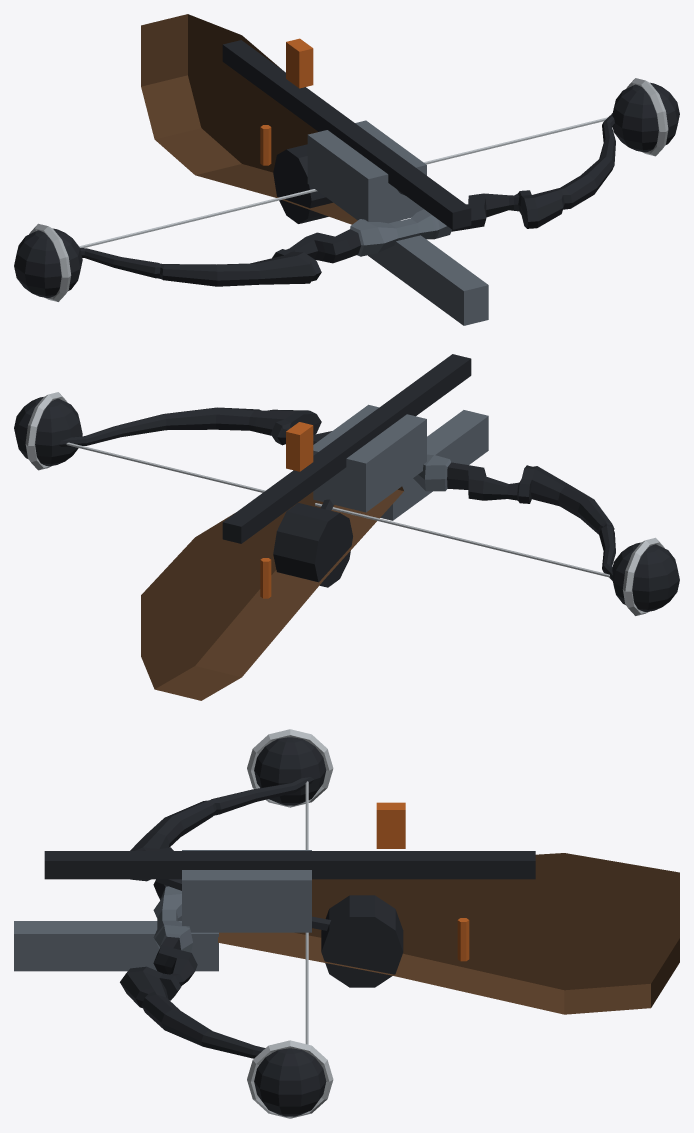
The model's file is heavy-bowcaster.glb.
3 views of the same model, one above another, from view 1: azimuth 30°, elevation 25°; view 2: azimuth 150°, elevation 25°; view 3: azimuth 270°, elevation 25° (orthographic). The views are drawn at different scales.
Parts seen in each view (by area): view 1: m; view 2: m; view 3: m.
Boxes of the visible parts, box(x1,y1,x2,y2) form: m: box(14, 14, 679, 325); m: box(14, 354, 679, 700); m: box(14, 729, 679, 1118).
Bounding box in the file's own units: 1.03 × 0.2764 × 0.85.
